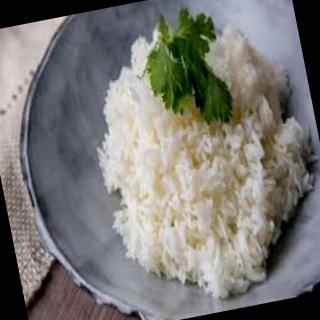Nasi: (74, 1, 320, 318)
